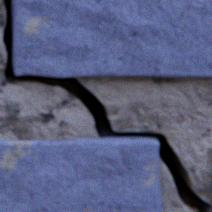brick: (12, 0, 211, 76), (0, 136, 161, 211), (210, 175, 211, 198)
crack: (2, 0, 211, 211)
